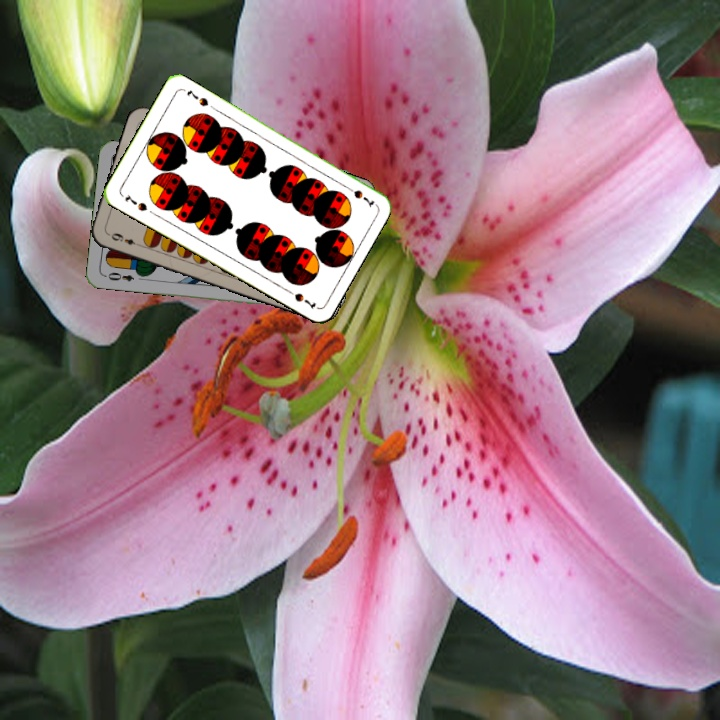E9: (107, 229, 143, 249)
EO: (100, 268, 137, 284)
S7: (340, 181, 377, 209), (121, 190, 150, 214)
